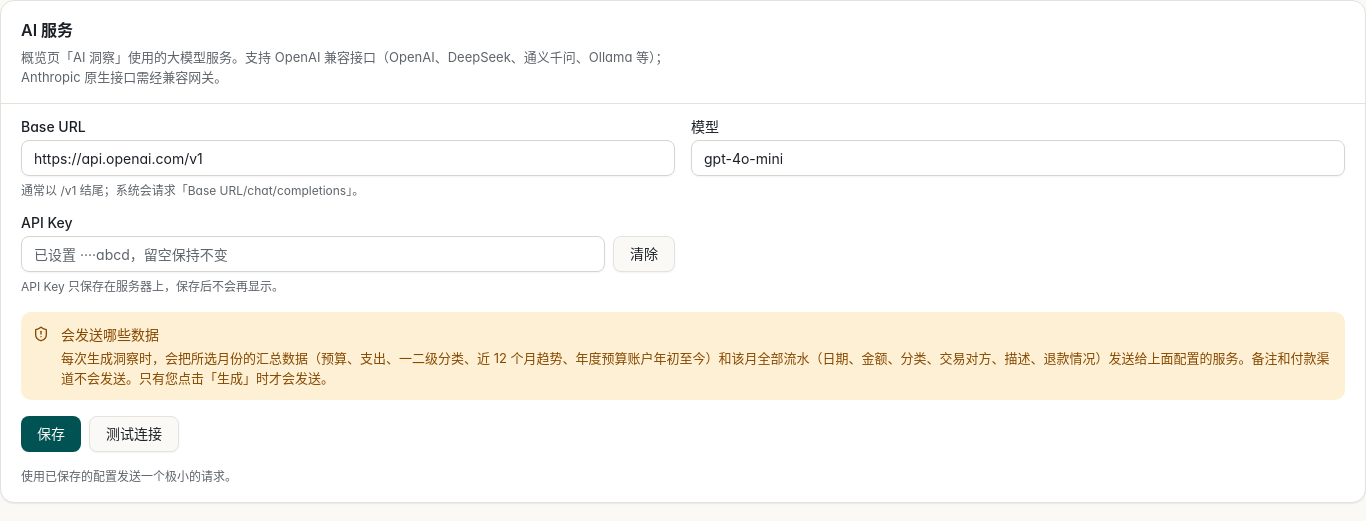
Test: AiSection › validates the form before saving
The image size is (1366, 521).
Type "api.openai.com/v1" into the field labelled "Base URL".
click(348, 158); type("api.openai.com/v1")  # box [21,140,675,176]
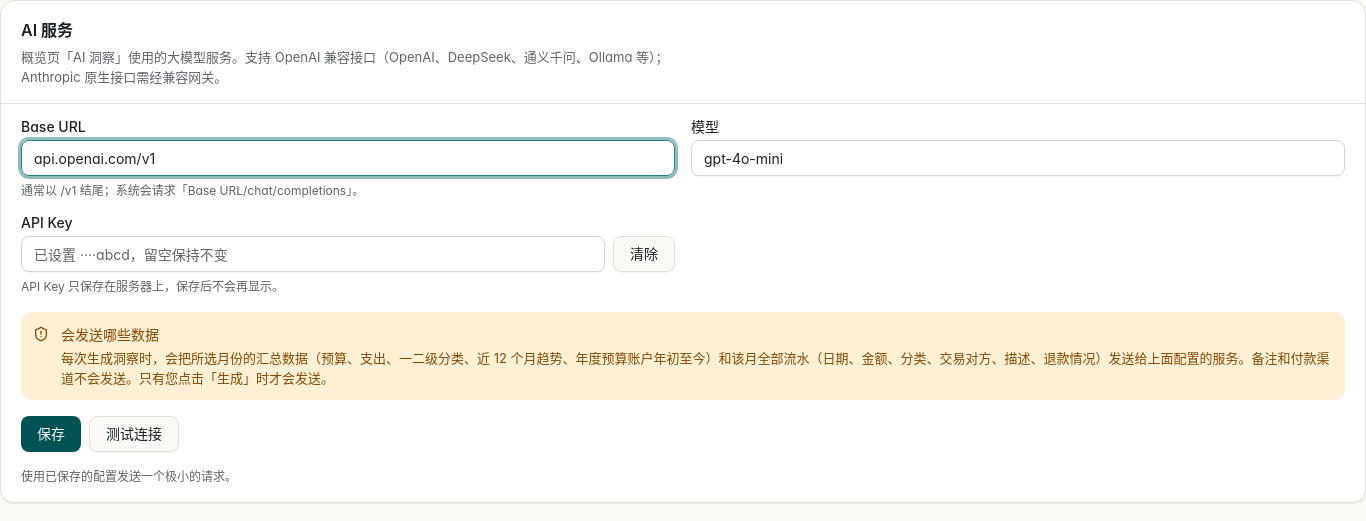
Clear the field labelled "模型" at (1018,158), box [691,140,1345,176]
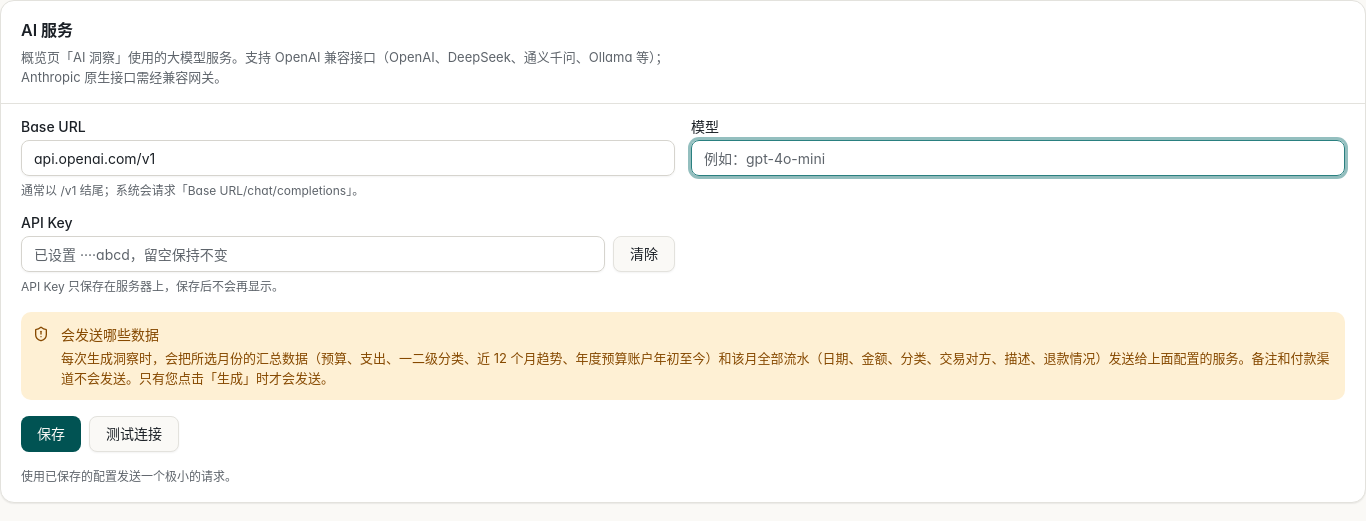
Click the button "保存".
click(51, 434)  # box [21,416,81,452]
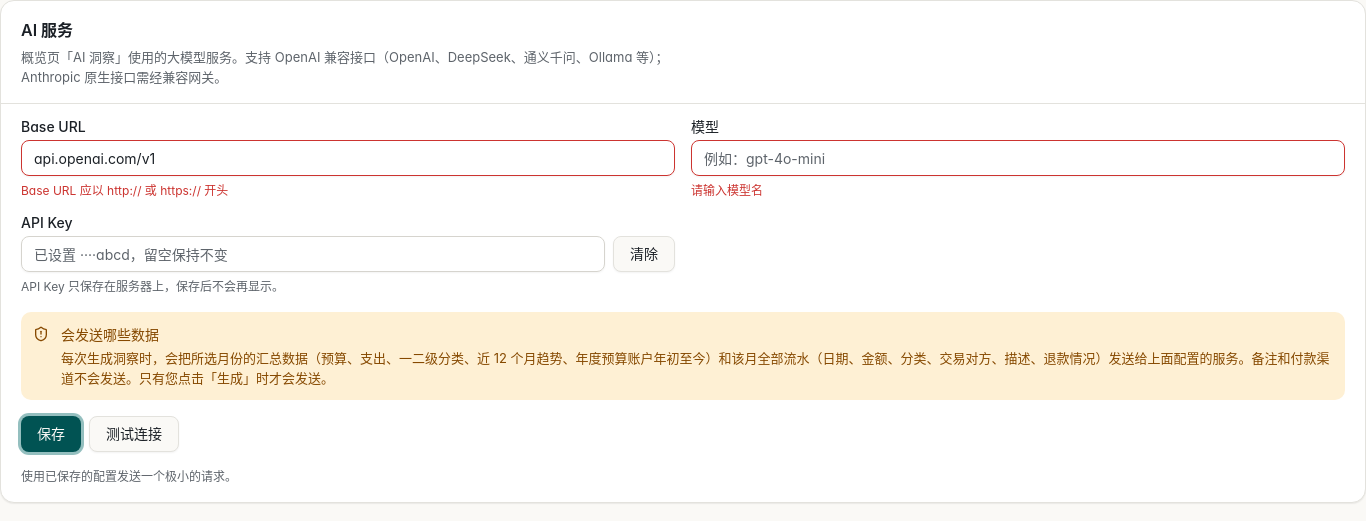
Now the text "Base URL 应以 http:// 或 https:// 开头" is shown, box [21,183,228,198]
Now the text "请输入模型名" is shown, box [691,183,763,198]
